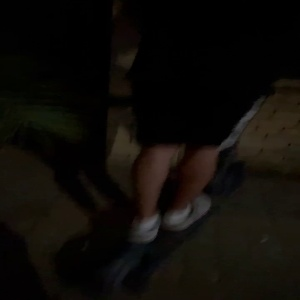human on a scooter: (94, 1, 274, 299)
